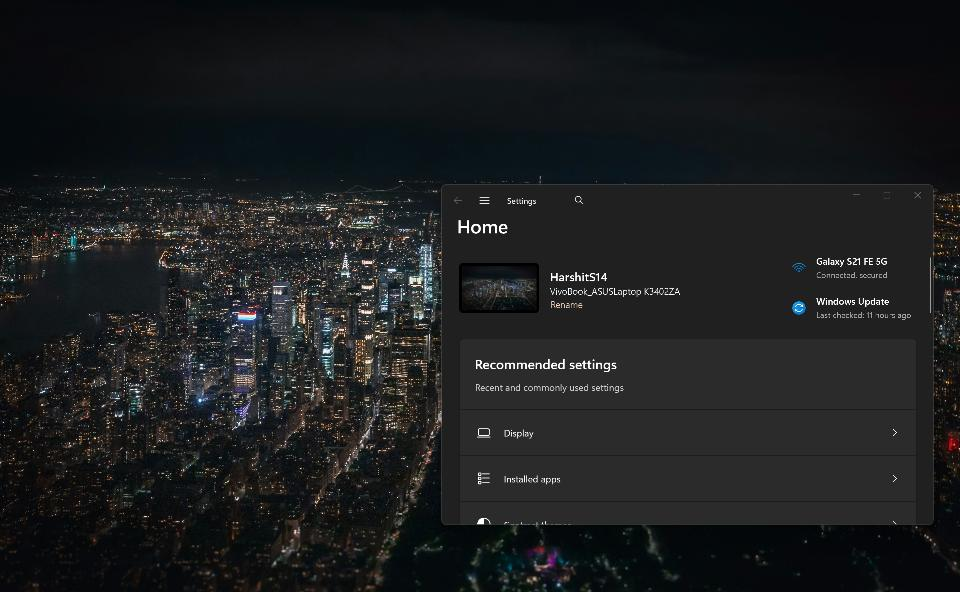close_button: (906, 185, 930, 208)
maximize_button: (877, 185, 899, 207)
minimize_button: (842, 185, 868, 206)
